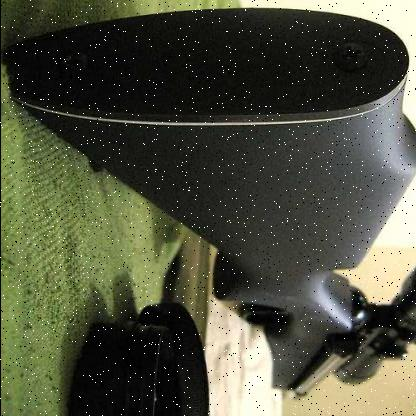rifle: (1, 0, 416, 400)
